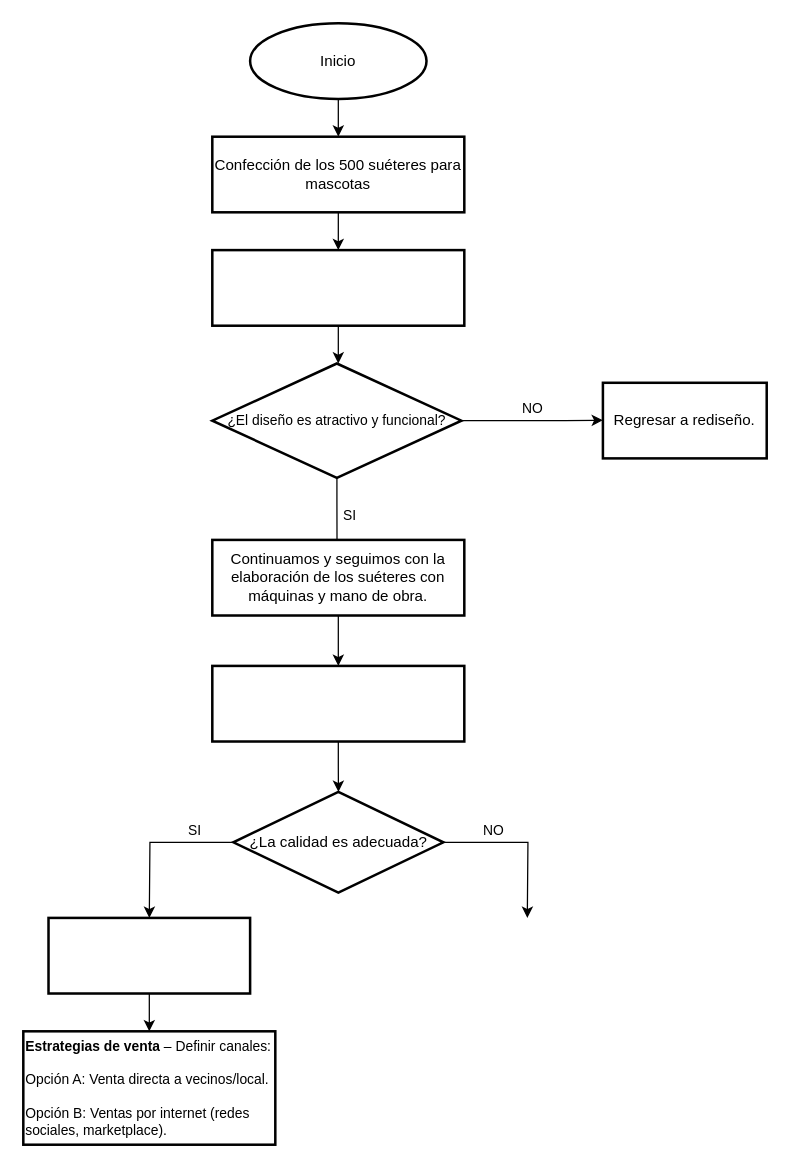
The diagram is 789 pixels wide and 1176 high, and some of its shapes have lost their labels. Each missing label, with the box of its shape:
Diseño del producto – Selección de tallas, colores y materiales.: (210, 248, 465, 326)
Iniciamos con producción con máquinas y mano de obra.: (210, 664, 465, 742)
organizar los suéteres por tallas y colores.: (47, 916, 251, 994)
